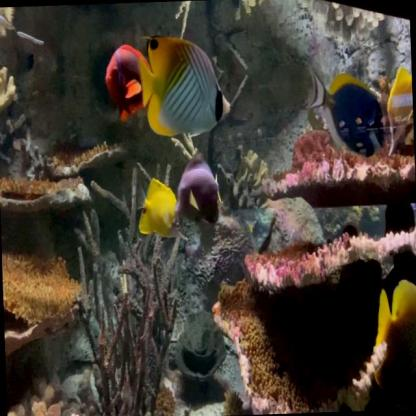fish: (137, 31, 232, 139), (305, 61, 387, 161), (370, 277, 415, 407), (103, 42, 156, 124), (171, 149, 225, 226), (135, 175, 189, 244), (385, 65, 414, 157)
